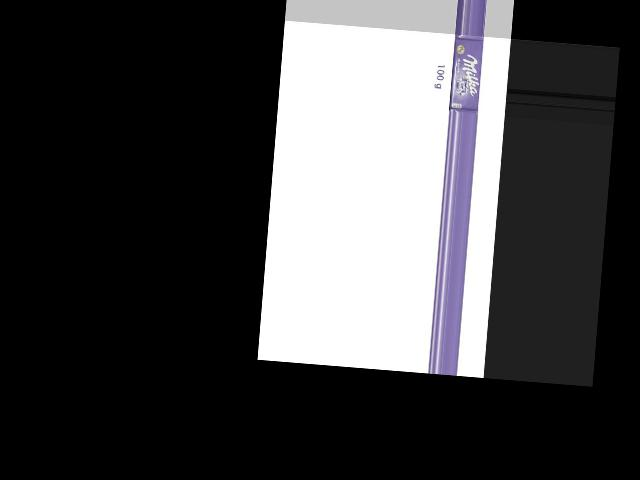chocolate: (443, 36, 484, 115)
